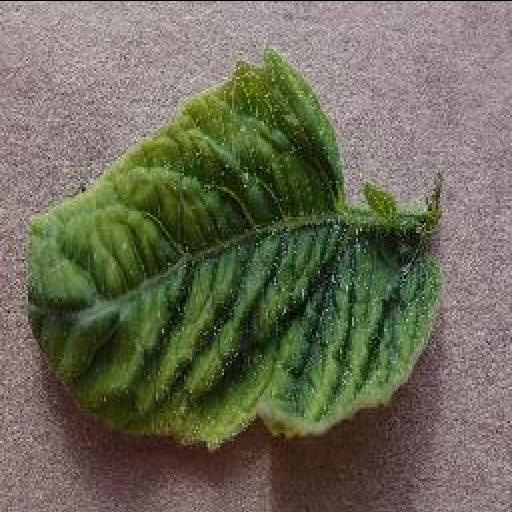disease_tomato: (24, 46, 444, 448)
